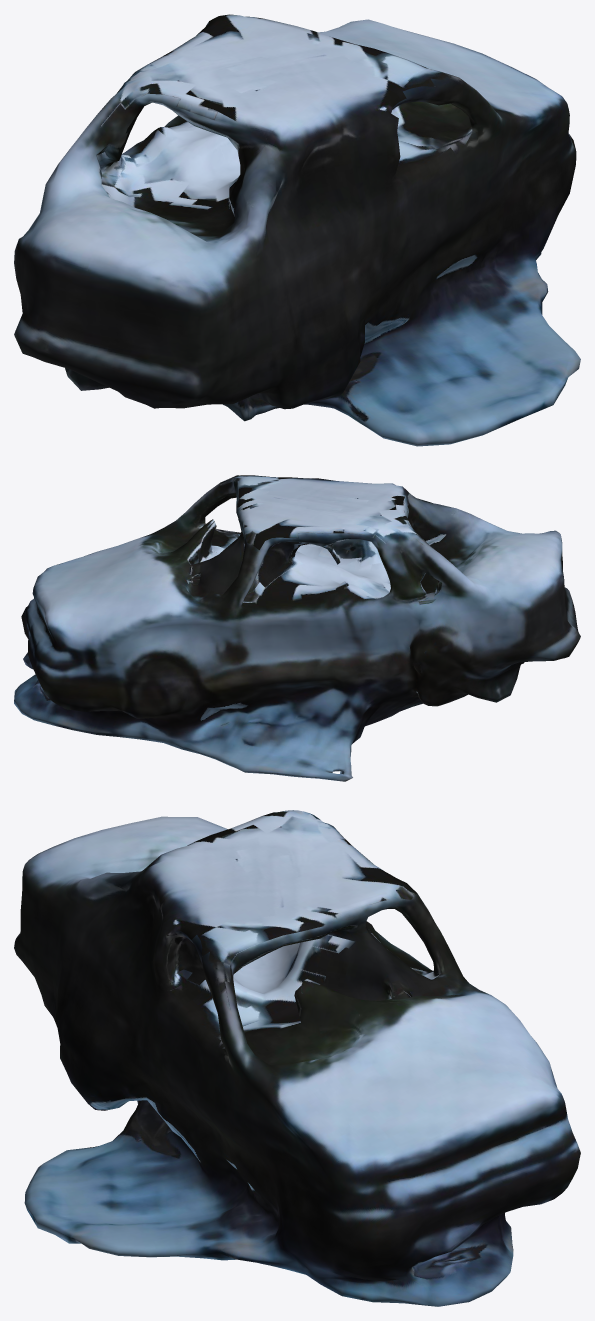
The model's file is abandoned_car07.glb.
3 renders of one model, top to bottom at view 1: azimuth 30°, elevation 25°; view 2: azimuth 150°, elevation 25°; view 3: azimuth 270°, elevation 25°, orthographic. The views are drawn at different scales.
Parts seen in each view (by area): view 1: mesh; view 2: mesh; view 3: mesh.
Boxes of the visible parts, x1=… form: mesh: x1=14, y1=14, x2=580, y2=446; mesh: x1=14, y1=475, x2=580, y2=781; mesh: x1=14, y1=810, x2=580, y2=1306.
Size of the model in its own units: 0.9976 by 0.4508 by 0.7731.
1 material, 1 textured.
